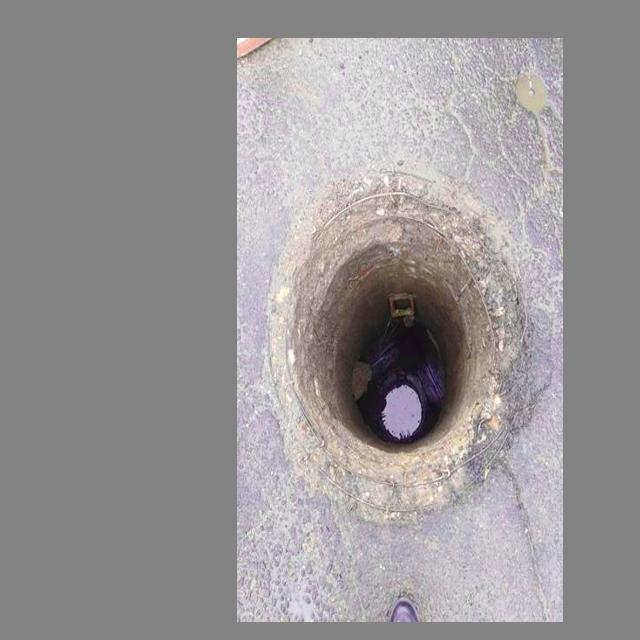lose: (268, 196, 530, 508)
